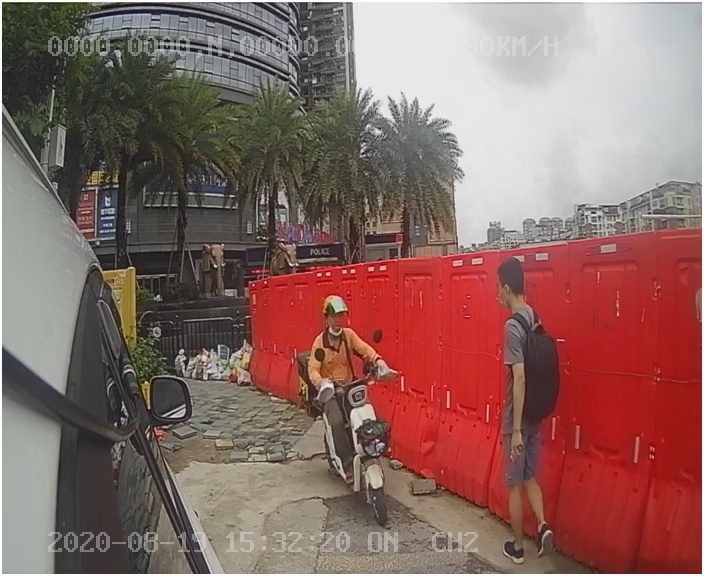person: (480, 255, 575, 565)
